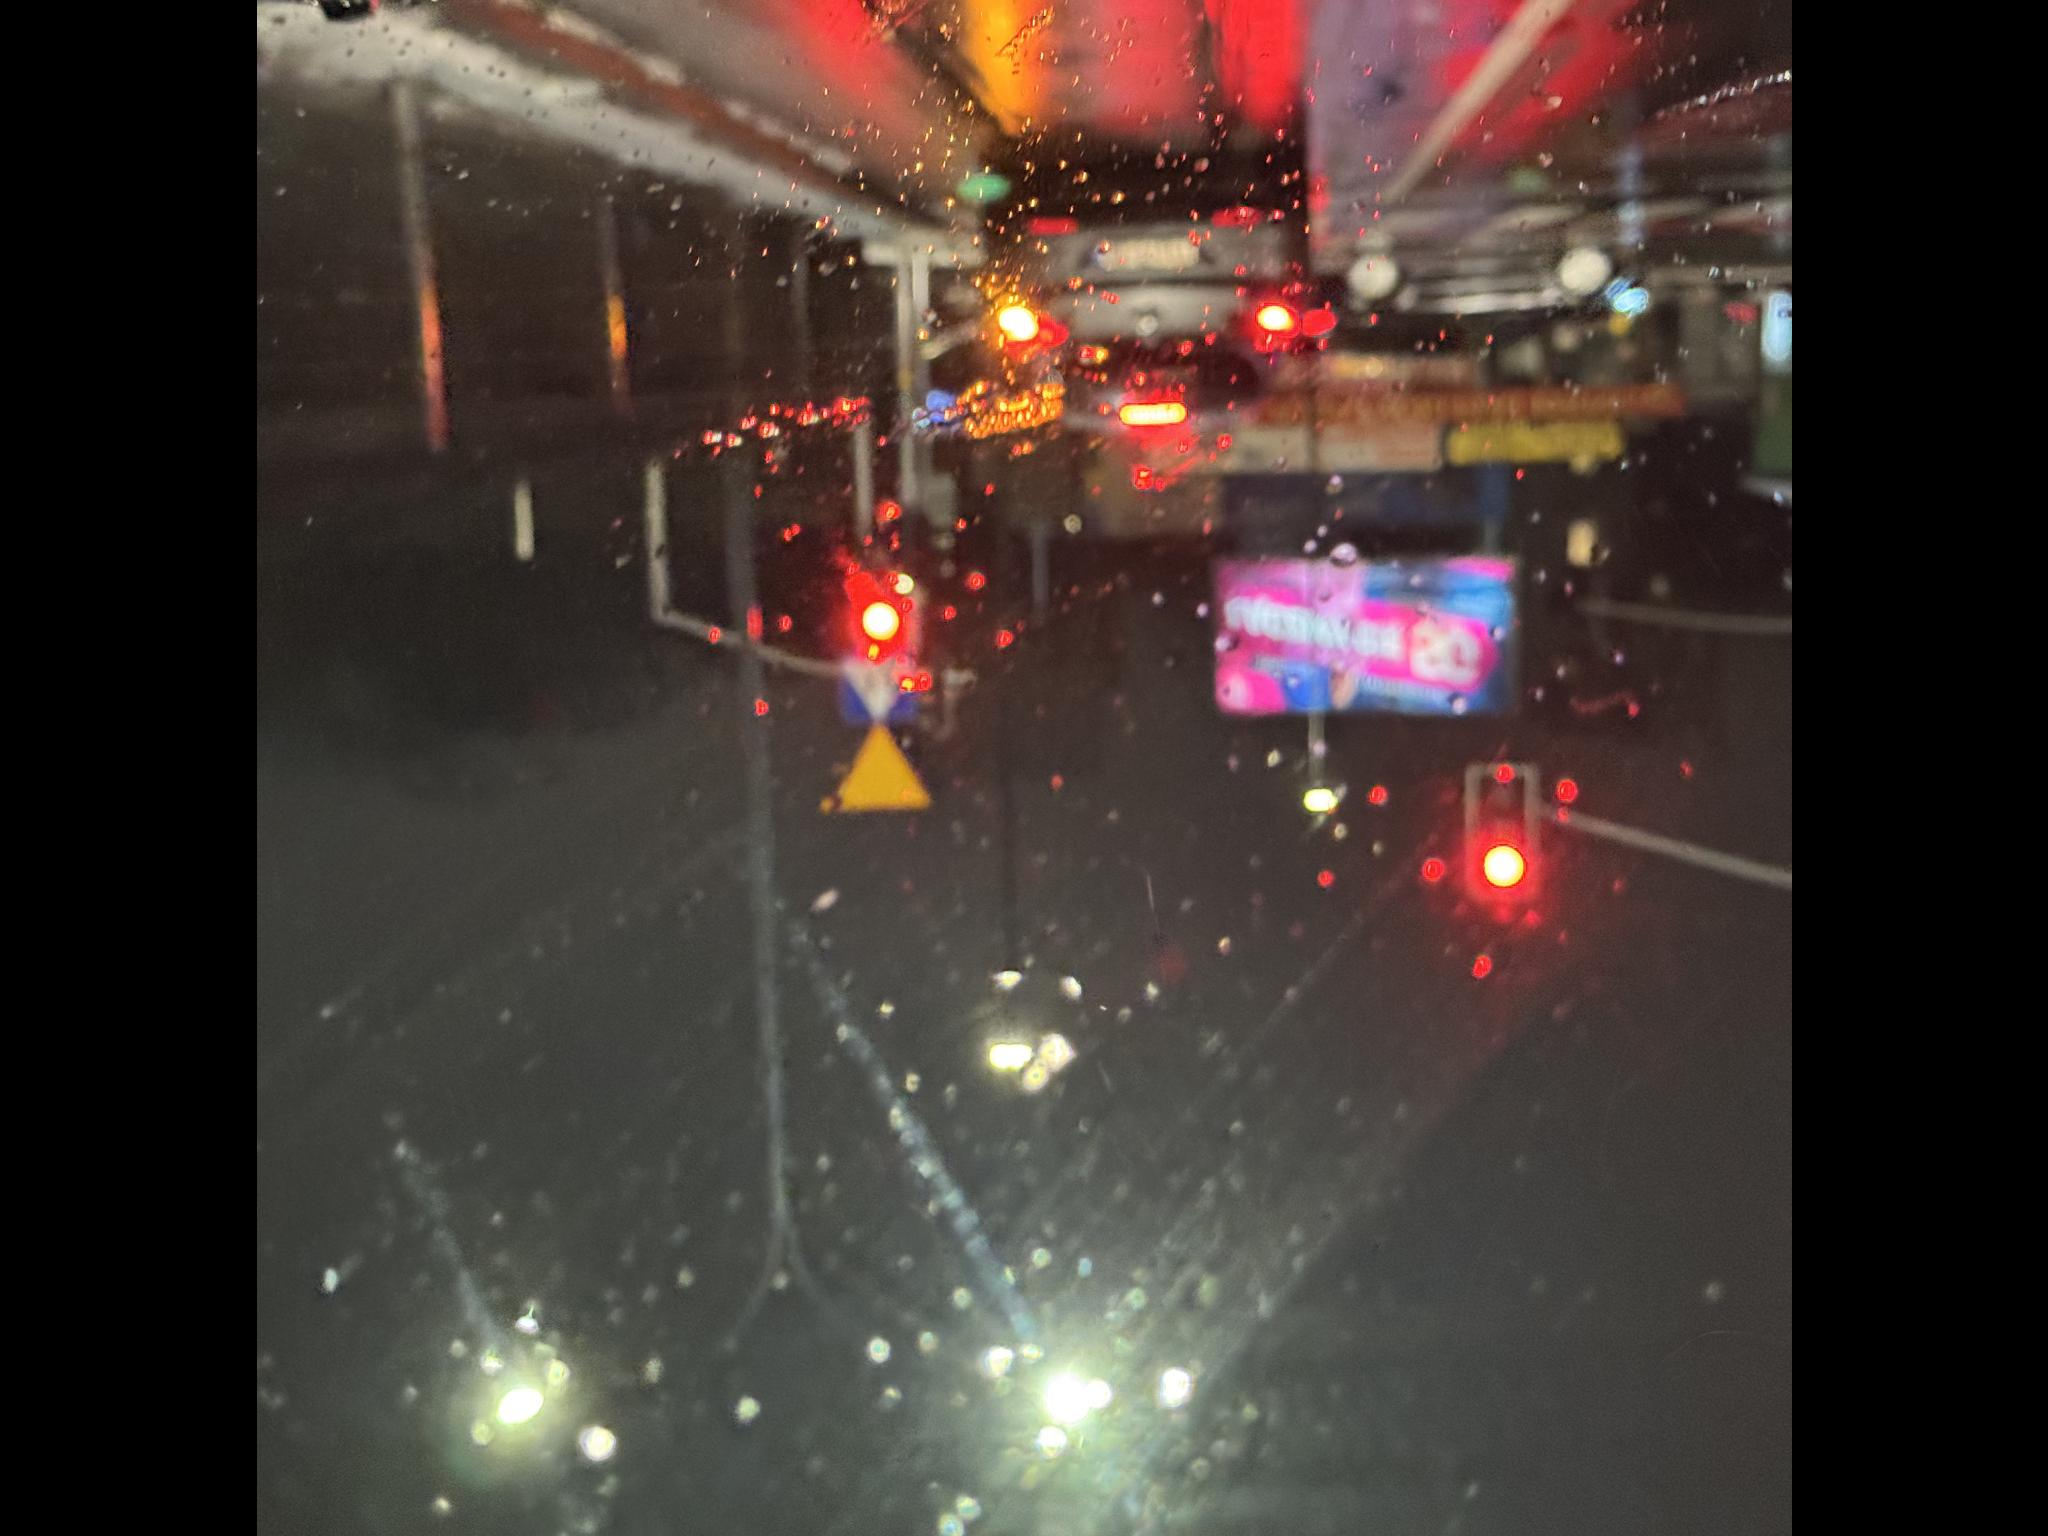information: (661, 1128, 722, 1210)
warning: (724, 1115, 816, 1220)
